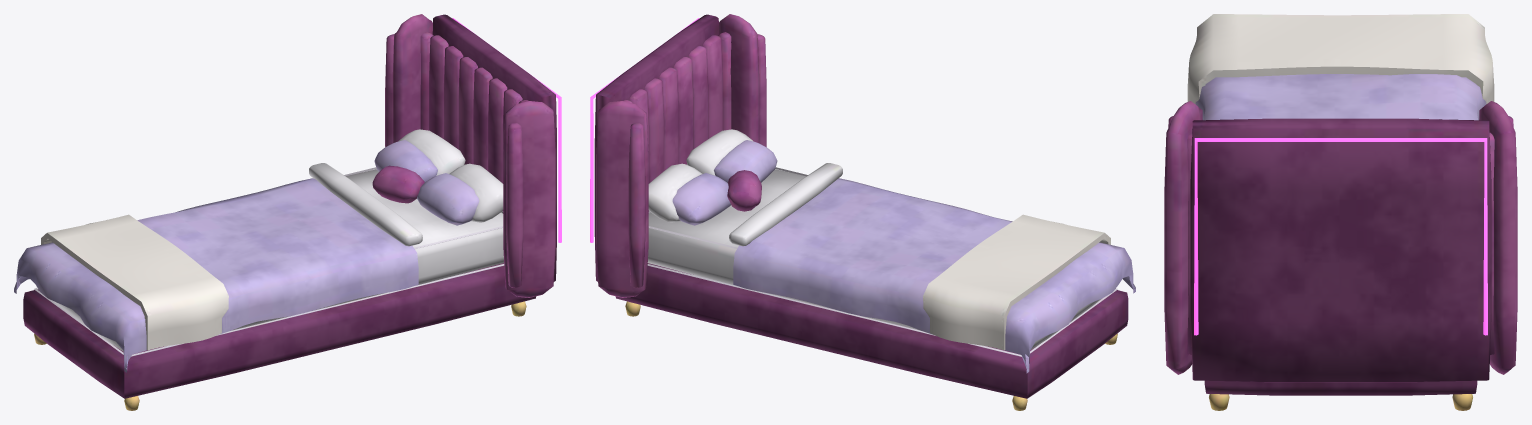
The model's file is bed2.glb.
The picture shows the model from 3 angles, left to right: view 1: azimuth 30°, elevation 25°; view 2: azimuth 150°, elevation 25°; view 3: azimuth 270°, elevation 25°; orthographic projection. The views are drawn at different scales.
Parts seen in each view (by area): view 1: body; view 2: body; view 3: body.
Part boxes in pixels (x1,y1,x2,y2): body: (14,14,561,410); body: (590,14,1135,410); body: (1164,14,1517,410).
Size of the model in its own units: 5.95 by 2.87 by 3.04.
Materials: 2 (1 with a texture image).
